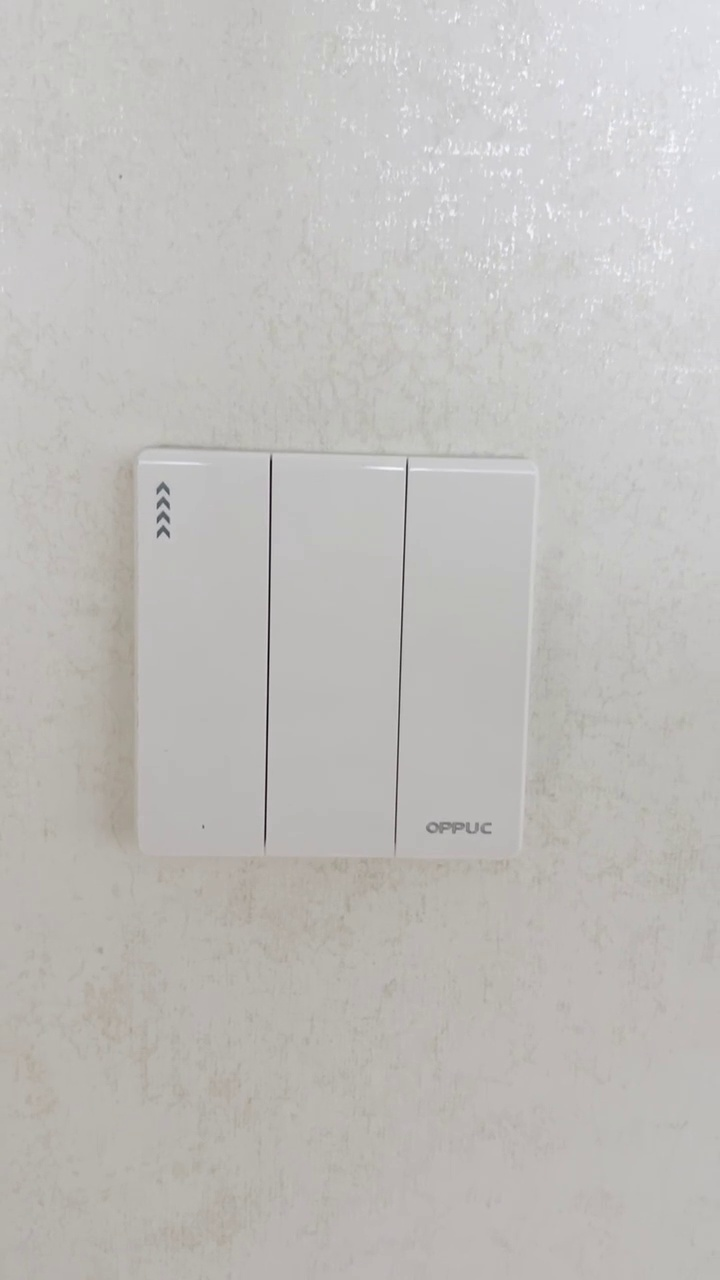button1: (267, 461, 401, 852), (143, 456, 267, 856), (403, 466, 524, 860)
